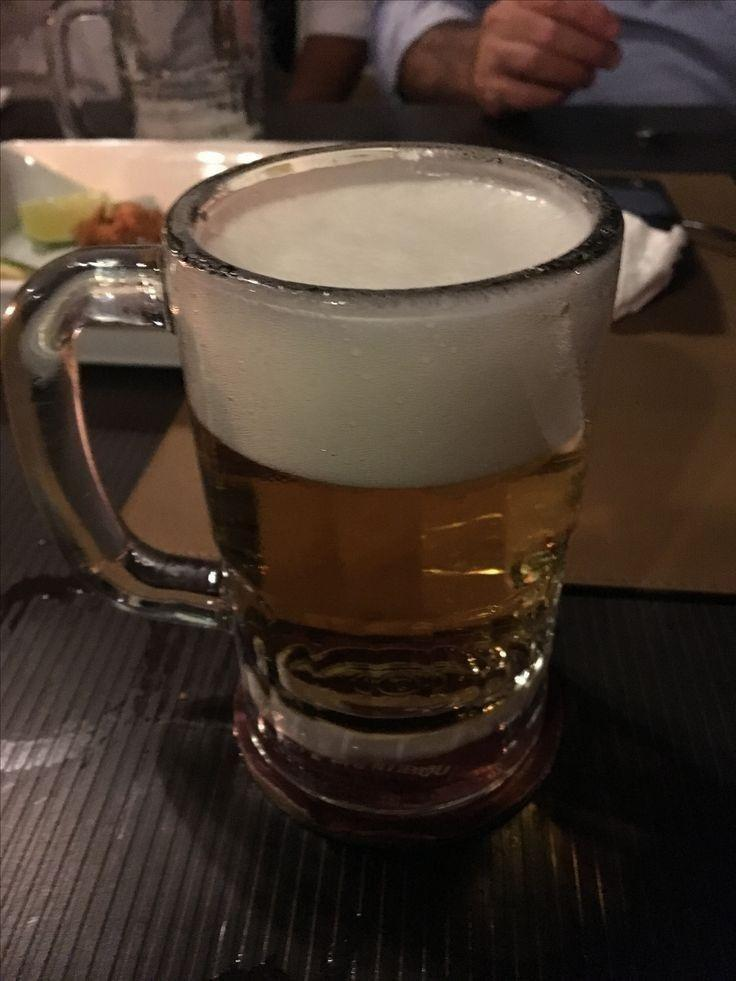glass-mug: (1, 132, 619, 843)
